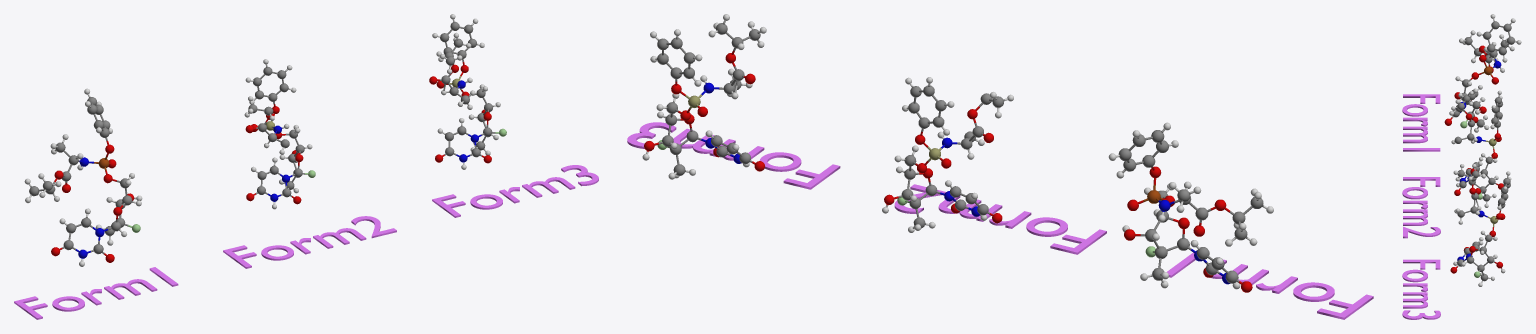
File: vera1.glb
3 renders of one model, left to right at view 1: azimuth 30°, elevation 25°; view 2: azimuth 150°, elevation 25°; view 3: azimuth 270°, elevation 25°, orthographic. The views are drawn at different scales.
Parts seen in each view (by area): view 1: form1, form3, form2, Text.002, Text.001, Text; view 2: form1, form3, form2, Text.001, Text.002, Text; view 3: form1, form3, form2, Text.002, Text.001, Text.
Boxes of the visible parts, bbox=[...] form: form1: bbox=[24, 88, 142, 266]; form3: bbox=[429, 14, 506, 169]; form2: bbox=[244, 59, 315, 209]; Text.002: bbox=[432, 165, 598, 217]; Text.001: bbox=[223, 216, 396, 268]; Text: bbox=[14, 267, 178, 319]; form1: bbox=[1108, 122, 1273, 292]; form3: bbox=[642, 14, 766, 179]; form2: bbox=[882, 77, 1013, 232]; Text.001: bbox=[894, 184, 1106, 254]; Text.002: bbox=[627, 122, 840, 189]; Text: bbox=[1167, 252, 1373, 319]; form1: bbox=[1444, 14, 1521, 132]; form3: bbox=[1450, 164, 1511, 286]; form2: bbox=[1451, 90, 1503, 207]; Text.002: bbox=[1402, 259, 1440, 319]; Text.001: bbox=[1402, 177, 1440, 238]; Text: bbox=[1402, 94, 1440, 151].
Size of the model in its own units: 0.366 by 0.0942 by 0.0821.
